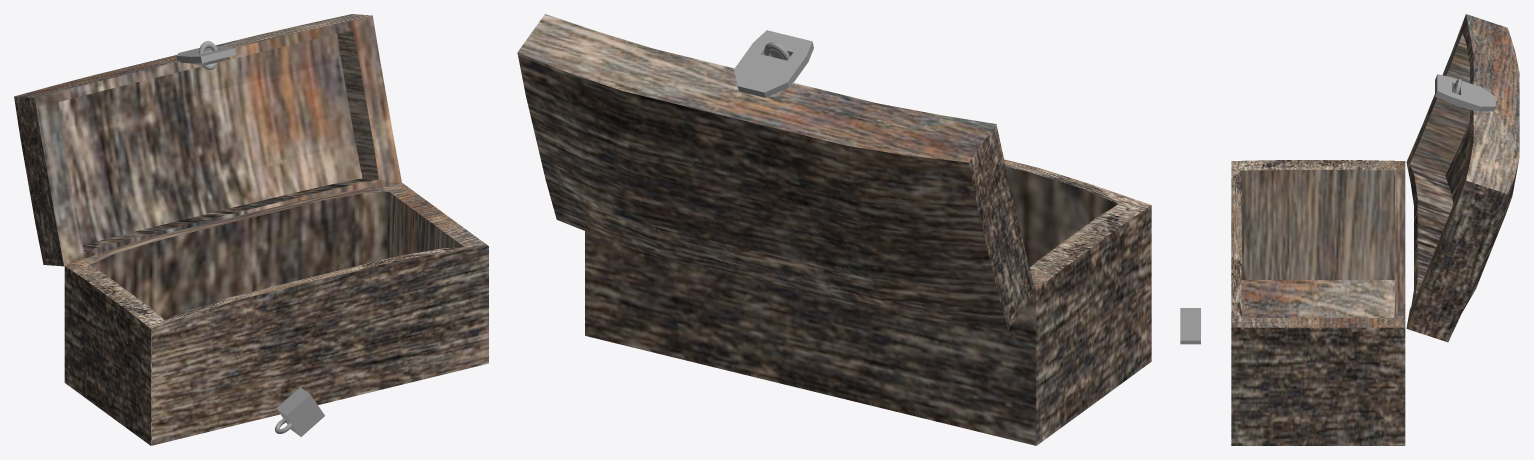
File: skrinjaoprta.gltf
3 renders of one model, left to right at view 1: azimuth 30°, elevation 25°; view 2: azimuth 150°, elevation 25°; view 3: azimuth 270°, elevation 25°, orthographic. The views are drawn at different scales.
Parts seen in each view (by area): view 1: Cube, Cube.001, Cube.002, Plane.001; view 2: Cube.001, Cube, Plane.001; view 3: Cube, Cube.001, Plane.001, Cube.002.
Boxes of the visible parts, x1,y1,x2,y2 form: Cube: [64, 183, 488, 445]; Cube.001: [14, 14, 401, 266]; Cube.002: [276, 387, 324, 436]; Plane.001: [176, 46, 235, 65]; Cube.001: [517, 14, 1035, 329]; Cube: [585, 159, 1151, 445]; Plane.001: [734, 30, 813, 97]; Cube: [1231, 160, 1405, 445]; Cube.001: [1406, 14, 1519, 342]; Plane.001: [1435, 74, 1495, 111]; Cube.002: [1180, 308, 1200, 344].
Bounding box in the file's own units: 4.53 × 3.63 × 3.9.
Materials: 2 (2 with a texture image).
